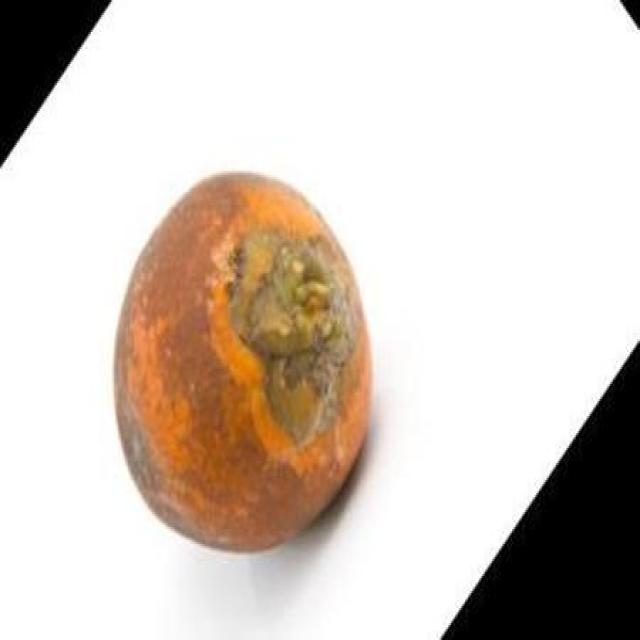good: (114, 173, 373, 555)
